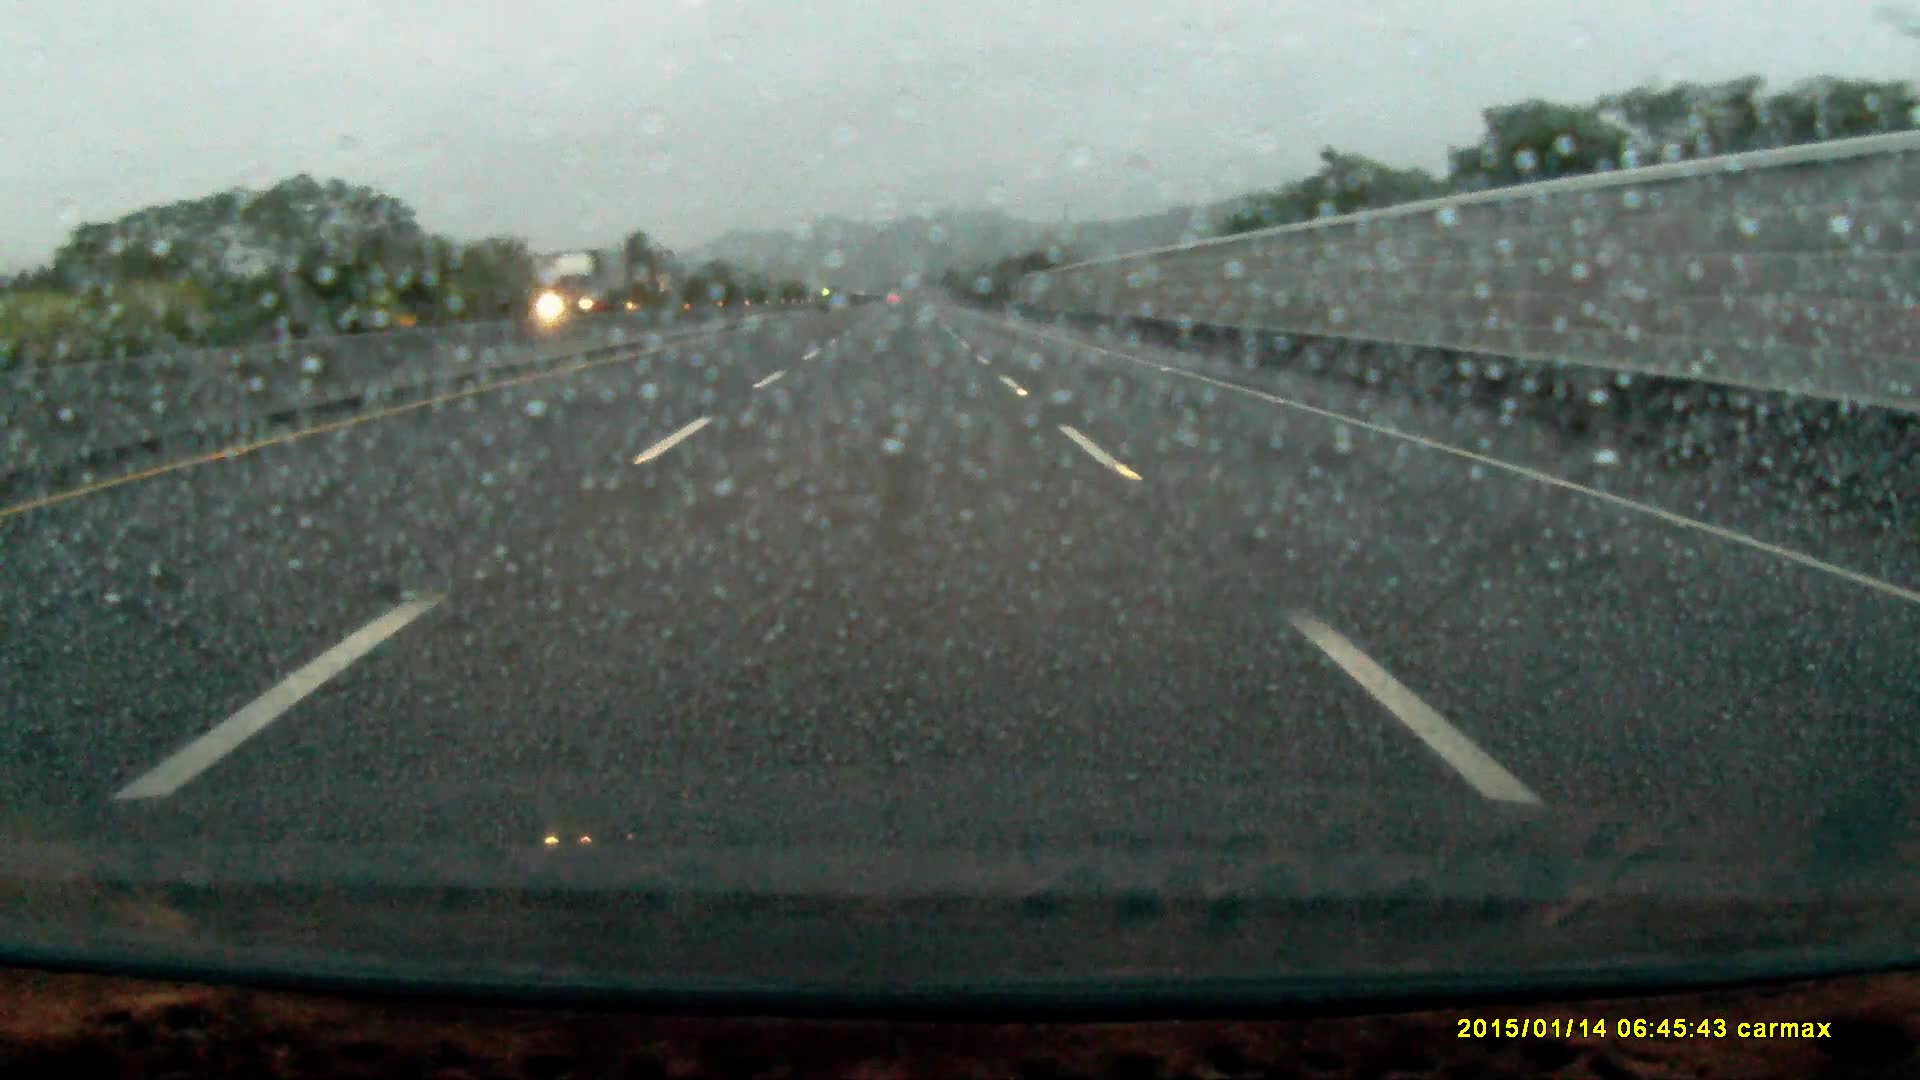vehicle: (537, 252, 637, 318)
